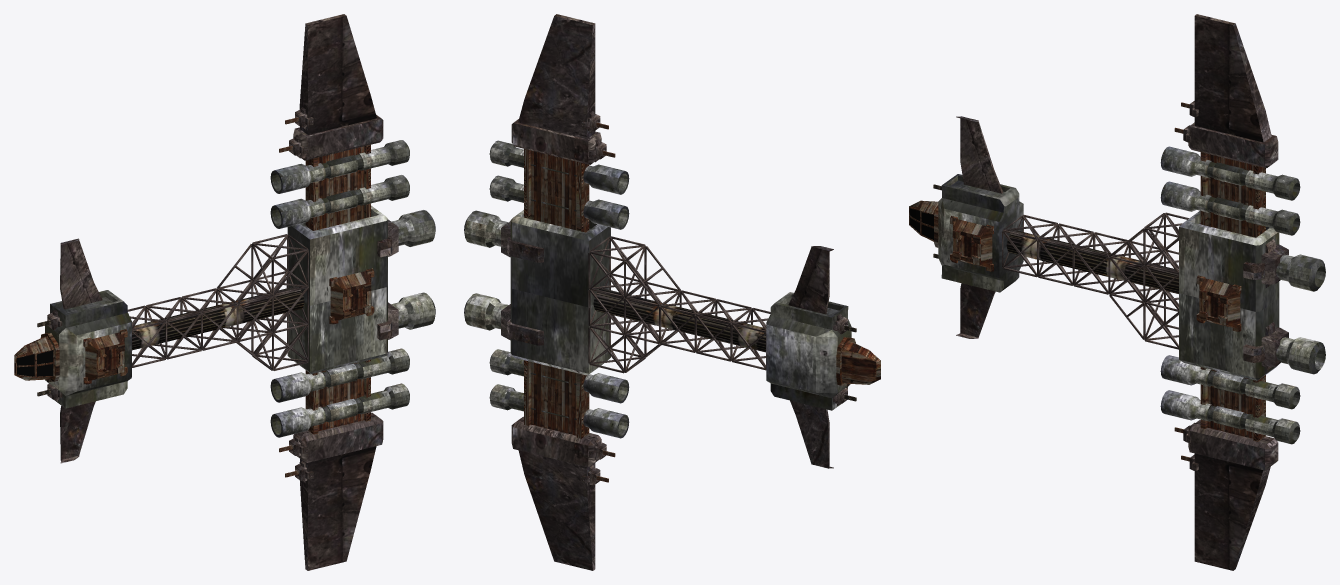
Rendered from behemot.obj.
3 renders of one model, left to right at view 1: azimuth 30°, elevation 25°; view 2: azimuth 150°, elevation 25°; view 3: azimuth 330°, elevation 25°, orthographic.
Parts seen in each view (by area): view 1: Box14, Box183, Box148, Box135, Box146, Cylinder01, Cylinder06, Cylinder02, Cylinder04, Cylinder07, Box147, Box184 (+8 smaller); view 2: Box14, Box148, Box183, Box135, Box147, Box184, Box146, Cylinder01, Cylinder06, Cylinder04, Cylinder02, Cylinder07 (+5 smaller); view 3: Box14, Box148, Box183, Box135, Box146, Cylinder01, Cylinder02, Cylinder04, Cylinder06, Cylinder07, Box147, Box184 (+7 smaller).
Boxes of the visible parts, x1=… form: Box14: x1=287, y1=205, x2=387, y2=373; Box183: x1=293, y1=412, x2=383, y2=570; Box148: x1=293, y1=14, x2=383, y2=160; Box135: x1=45, y1=290, x2=131, y2=408; Box146: x1=60, y1=238, x2=102, y2=463; Cylinder01: x1=132, y1=286, x2=304, y2=350; Cylinder06: x1=270, y1=383, x2=409, y2=437; Cylinder02: x1=270, y1=140, x2=409, y2=193; Cylinder04: x1=270, y1=175, x2=409, y2=228; Cylinder07: x1=270, y1=348, x2=409, y2=402; Box147: x1=305, y1=144, x2=370, y2=230; Box184: x1=305, y1=359, x2=370, y2=434; Box14: x1=510, y1=210, x2=610, y2=375; Box148: x1=511, y1=14, x2=601, y2=164; Box183: x1=511, y1=416, x2=601, y2=570; Box135: x1=766, y1=292, x2=851, y2=410; Box147: x1=524, y1=149, x2=589, y2=232; Box184: x1=524, y1=360, x2=589, y2=438; Box146: x1=788, y1=246, x2=833, y2=468; Cylinder01: x1=593, y1=288, x2=765, y2=352; Cylinder06: x1=489, y1=384, x2=629, y2=438; Cylinder04: x1=489, y1=175, x2=629, y2=229; Cylinder02: x1=489, y1=140, x2=629, y2=194; Cylinder07: x1=489, y1=349, x2=629, y2=403; Box14: x1=1179, y1=210, x2=1279, y2=380; Box148: x1=1188, y1=14, x2=1278, y2=168; Box183: x1=1188, y1=420, x2=1278, y2=570; Box135: x1=938, y1=174, x2=1023, y2=292; Box146: x1=956, y1=116, x2=1003, y2=338; Cylinder01: x1=1006, y1=230, x2=1178, y2=293; Cylinder02: x1=1160, y1=146, x2=1300, y2=200; Cylinder04: x1=1160, y1=181, x2=1300, y2=235; Cylinder06: x1=1160, y1=390, x2=1300, y2=444; Cylinder07: x1=1160, y1=355, x2=1300, y2=409; Box147: x1=1200, y1=152, x2=1265, y2=237; Box184: x1=1200, y1=367, x2=1265, y2=441.
Bounding box in the file's own units: 16.22 × 20.45 × 2.17.
Materials: 5 (4 with a texture image).
